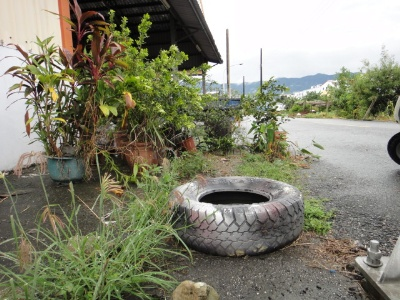tire: (165, 175, 310, 256)
